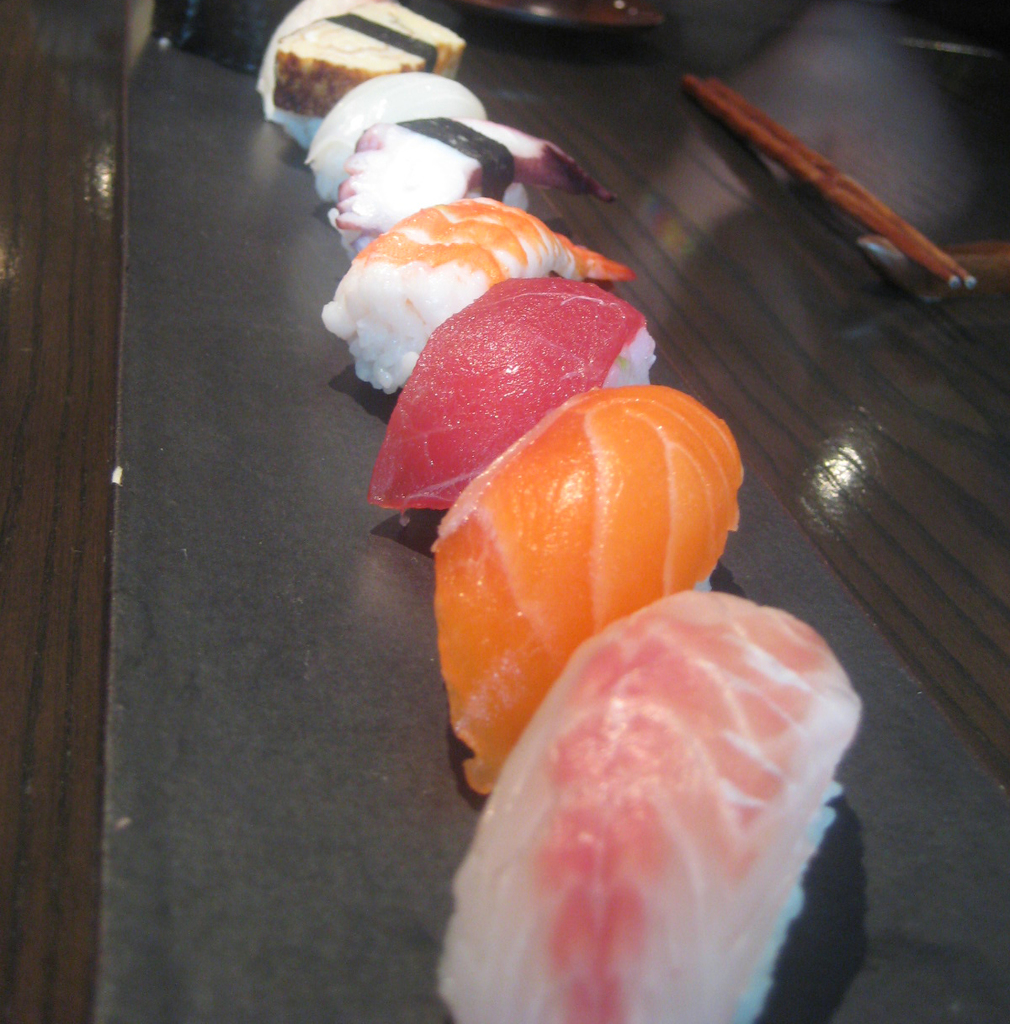sushi: (263, 0, 864, 1023), (320, 193, 569, 357)
